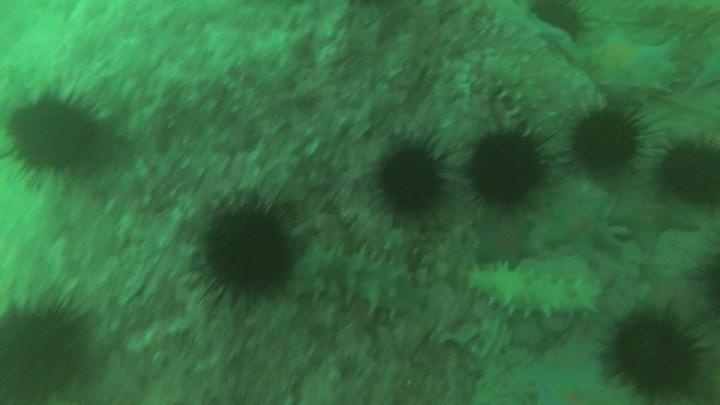echinus: (193, 194, 302, 305), (0, 292, 95, 403), (4, 87, 109, 182), (603, 309, 707, 401), (464, 128, 551, 212), (372, 137, 450, 220), (567, 104, 649, 178), (653, 133, 720, 210), (528, 1, 594, 44)
holothurian: (289, 240, 431, 323), (463, 261, 603, 324), (481, 56, 559, 138), (635, 1, 718, 36)
starfish: (586, 26, 683, 100), (604, 184, 700, 254), (527, 355, 636, 404), (545, 195, 621, 264), (636, 262, 714, 328), (468, 214, 540, 271), (672, 30, 720, 92)
